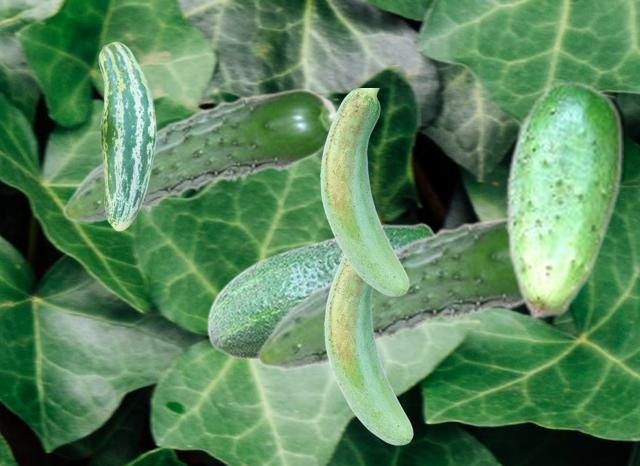cucumber: (256, 214, 523, 369), (62, 88, 338, 222), (206, 222, 434, 359), (505, 79, 622, 319), (320, 88, 408, 295), (324, 255, 412, 444), (98, 41, 155, 230)
